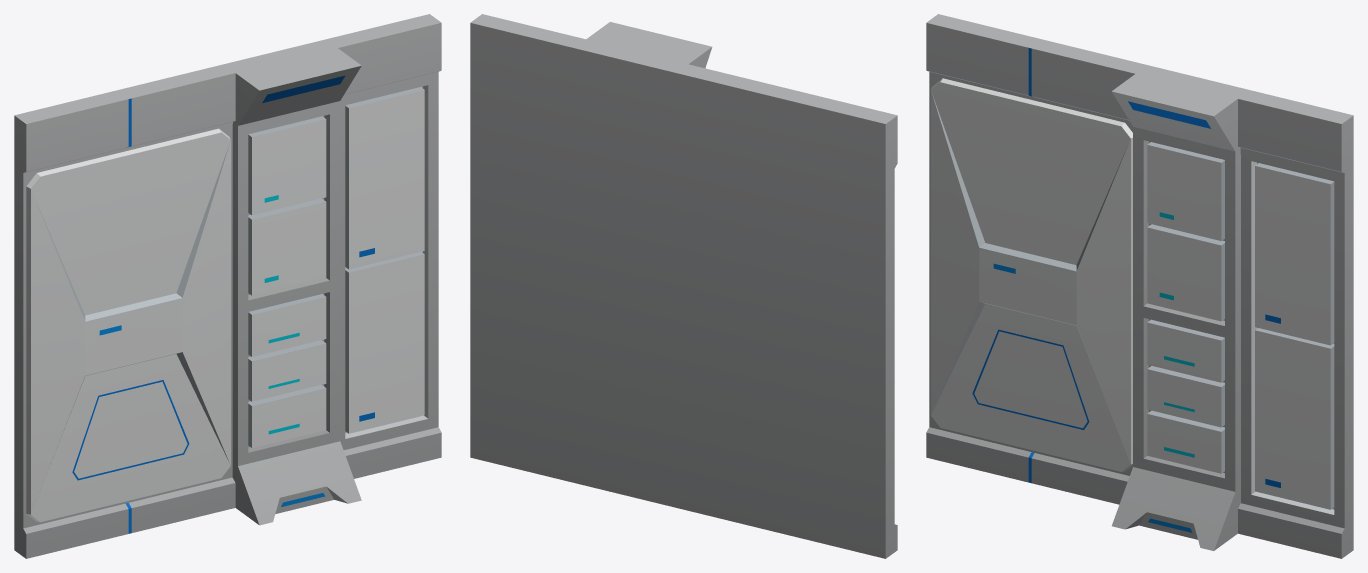
The model's file is Wall_type_A_010.fbx.
The picture shows the model from 3 angles, left to right: view 1: azimuth 30°, elevation 25°; view 2: azimuth 150°, elevation 25°; view 3: azimuth 330°, elevation 25°; orthographic projection.
Parts seen in each view (by area): view 1: Wall_type_A_010; view 2: Wall_type_A_010; view 3: Wall_type_A_010.
Part boxes in pixels (box(x1,y1,x2,y2)): Wall_type_A_010: box(14, 14, 441, 558); Wall_type_A_010: box(470, 14, 897, 558); Wall_type_A_010: box(926, 14, 1353, 558).
Size of the model in its own units: 400 by 60 by 400.
